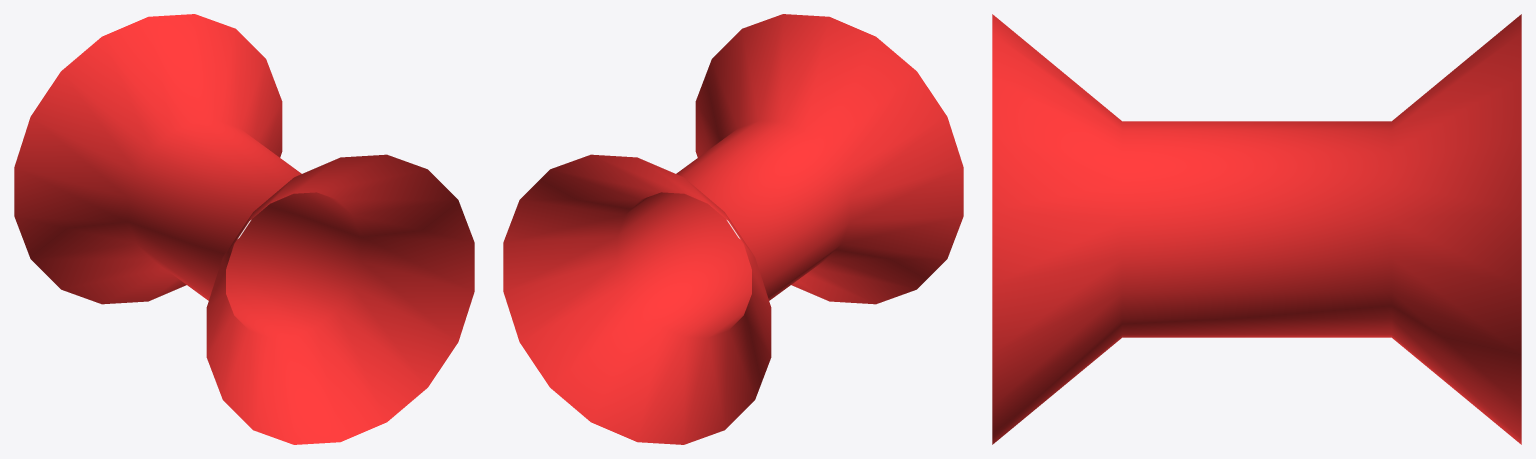
Rendered from OpticalPart.FBX.
The picture shows the model from 3 angles, left to right: view 1: azimuth 30°, elevation 25°; view 2: azimuth 150°, elevation 25°; view 3: azimuth 270°, elevation 25°; orthographic projection. The views are drawn at different scales.
Visible parts, largest first — view 1: Shape001; view 2: Shape001; view 3: Shape001.
Part boxes in pixels (bbox=[...]): Shape001: bbox=[14, 14, 474, 444]; Shape001: bbox=[503, 14, 963, 444]; Shape001: bbox=[992, 14, 1521, 444].
Bounding box in the file's own units: 28.16 × 28.6 × 34.98.
